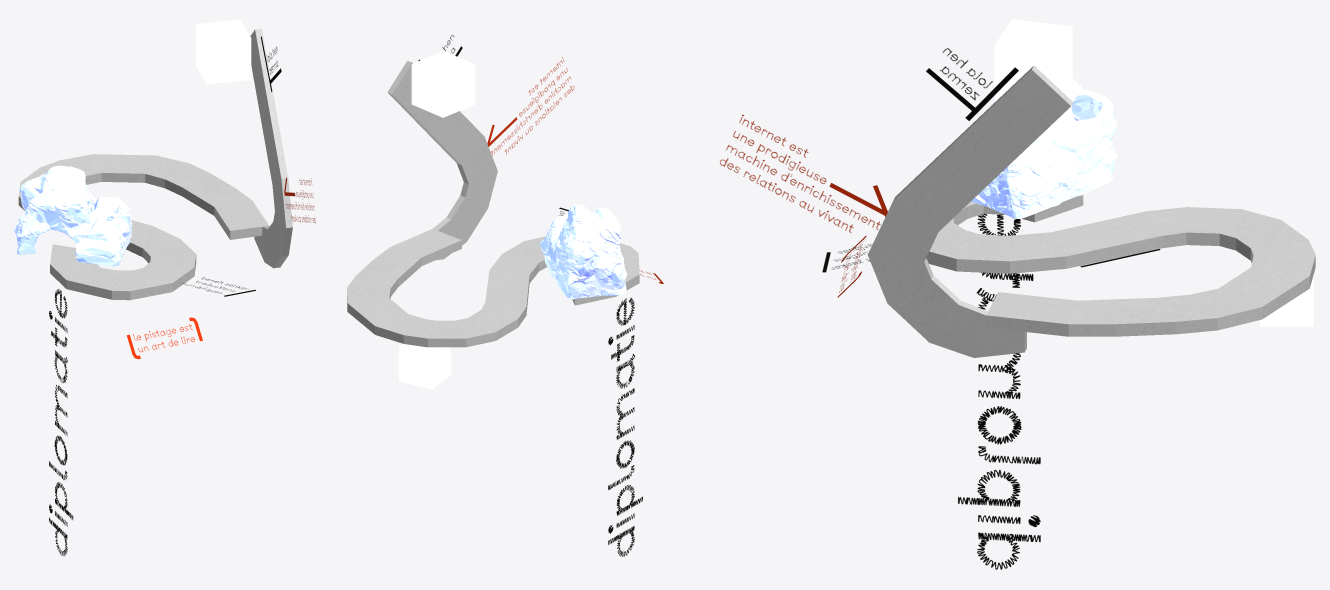
Rendered from Diplomatie_Items.gltf.
3 renders of one model, left to right at view 1: azimuth 30°, elevation 25°; view 2: azimuth 150°, elevation 25°; view 3: azimuth 270°, elevation 25°, orthographic. The views are drawn at different scales.
Parts seen in each view (by area): view 1: Diplomatie, 3D_Benoit, 3D_Lola, Titre_diplomatie, Cartel_Sonore_Benoit_BM, Cartel_Sonore_Thomas_Lola_BM; view 2: Diplomatie, 3D_Benoit, 3D_Lola, Titre_diplomatie, 3D_Thomas, Cartel_Sonore_Thomas_Lola_BM; view 3: Diplomatie, 3D_Benoit, Titre_diplomatie, 3D_Lola, Cartel_Sonore_Thomas_Lola_BM, 3D_Thomas, Cartel_lola_hen.
Boxes of the visible parts, x1=… form: Diplomatie: x1=18, y1=28, x2=292, y2=300; 3D_Benoit: x1=14, y1=165, x2=132, y2=266; 3D_Lola: x1=195, y1=19, x2=251, y2=84; Titre_diplomatie: x1=49, y1=289, x2=73, y2=555; Cartel_Sonore_Benoit_BM: x1=126, y1=317, x2=202, y2=359; Cartel_Sonore_Thomas_Lola_BM: x1=284, y1=177, x2=315, y2=222; Diplomatie: x1=347, y1=61, x2=639, y2=347; 3D_Benoit: x1=539, y1=204, x2=627, y2=299; 3D_Lola: x1=411, y1=51, x2=474, y2=117; Titre_diplomatie: x1=608, y1=297, x2=642, y2=556; 3D_Thomas: x1=399, y1=344, x2=450, y2=389; Cartel_Sonore_Thomas_Lola_BM: x1=487, y1=57, x2=574, y2=155; Diplomatie: x1=868, y1=65, x2=1315, y2=357; 3D_Benoit: x1=971, y1=79, x2=1117, y2=218; Titre_diplomatie: x1=958, y1=213, x2=1040, y2=569; 3D_Lola: x1=994, y1=19, x2=1072, y2=101; Cartel_Sonore_Thomas_Lola_BM: x1=720, y1=114, x2=887, y2=232; 3D_Thomas: x1=1259, y1=274, x2=1313, y2=326; Cartel_lola_hen: x1=926, y1=48, x2=1018, y2=120.
Size of the model in its own units: 34.21 by 68.17 by 54.3.
Materials: 9 (7 with a texture image).
